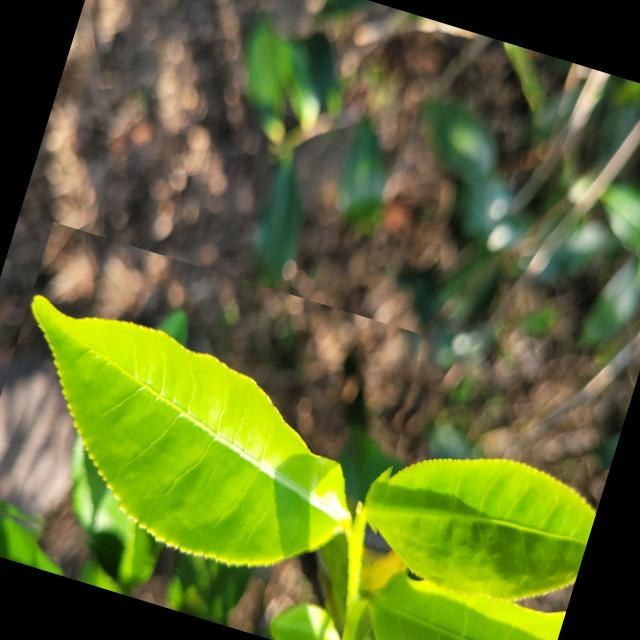Category B(2-4 days): (0, 221, 441, 631)
